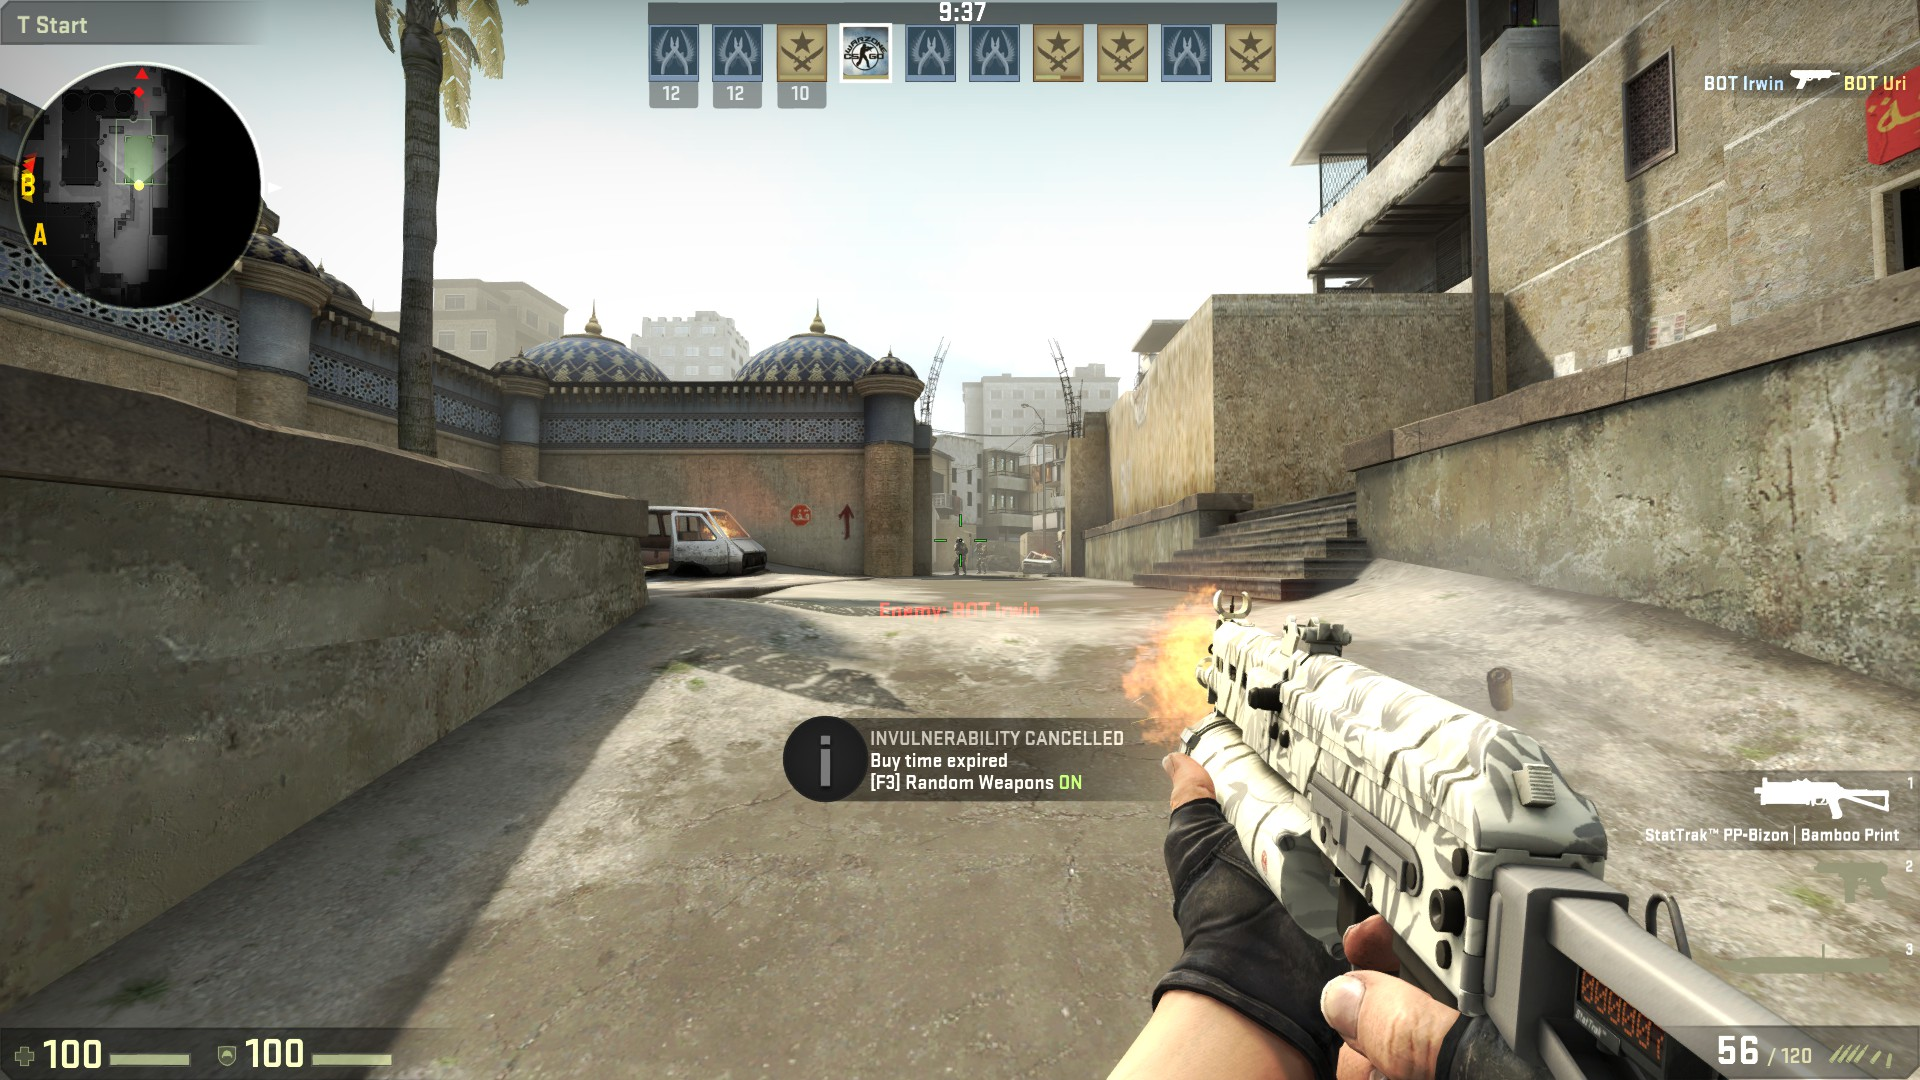c: (951, 537, 968, 578), (975, 542, 986, 575)
